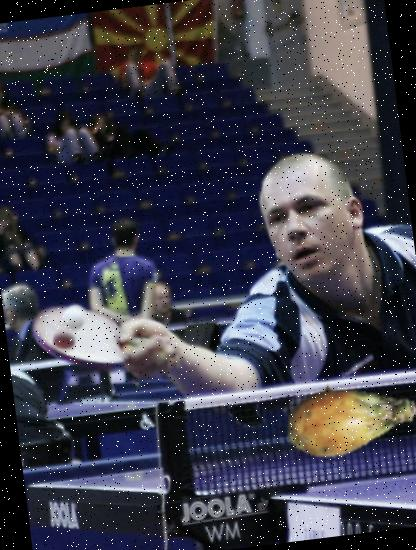Cactus: (277, 346, 416, 495)
